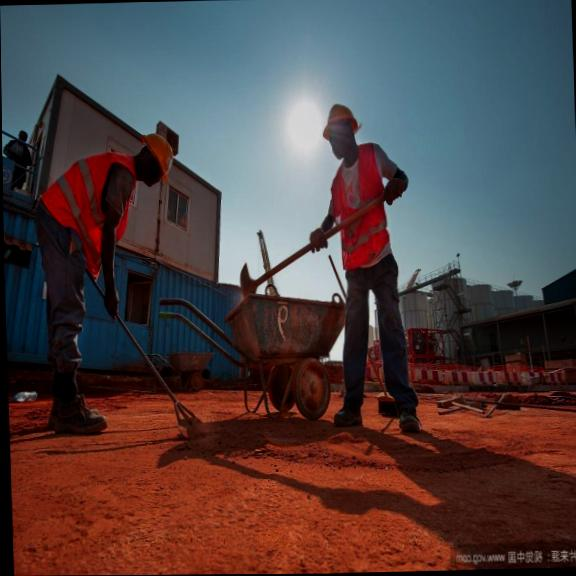safety_vest: (41, 150, 140, 260), (330, 145, 388, 267)
